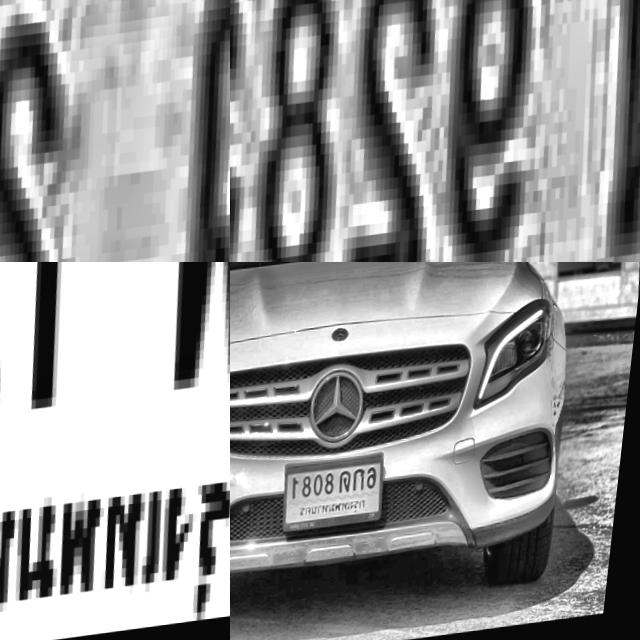license-plate: (230, 0, 640, 262), (0, 262, 230, 640), (0, 0, 230, 262), (287, 453, 402, 537)
